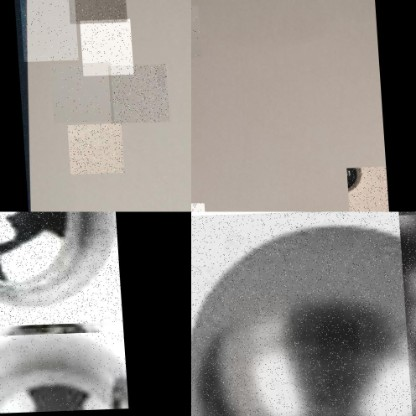ironball: (191, 211, 415, 415), (0, 211, 120, 327), (0, 327, 125, 415), (47, 63, 110, 123), (105, 65, 166, 124), (18, 0, 75, 62), (77, 20, 130, 76), (63, 124, 119, 175), (342, 169, 384, 211), (65, 0, 125, 24)
